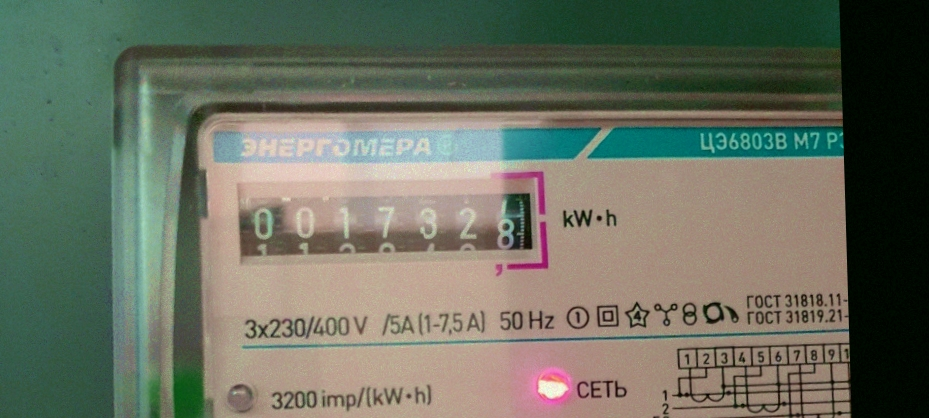0: (252, 204, 275, 241), (293, 204, 315, 239)
1: (336, 203, 352, 239)
2: (455, 205, 477, 241)
3: (415, 205, 439, 241)
7: (373, 202, 398, 240)
8: (493, 215, 514, 251)
screen: (227, 171, 552, 281)
